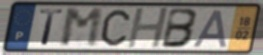A: (191, 9, 229, 49)
B: (160, 7, 201, 50)
C: (99, 8, 132, 48)
H: (125, 6, 171, 50)
M: (59, 7, 105, 49)
T: (38, 8, 65, 47)
